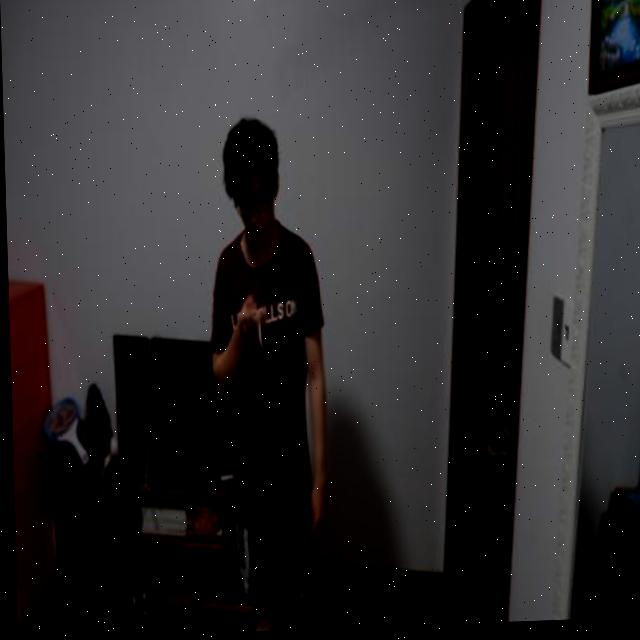cigarette: (255, 319, 261, 354)
